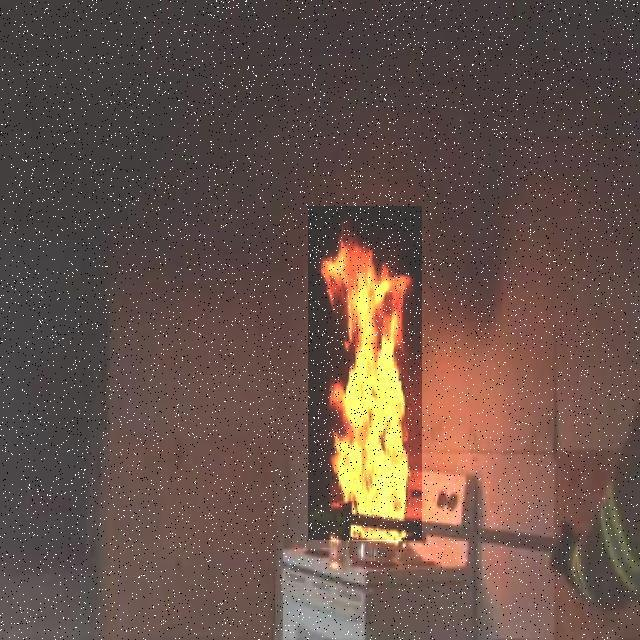Fire: (314, 230, 414, 540)
